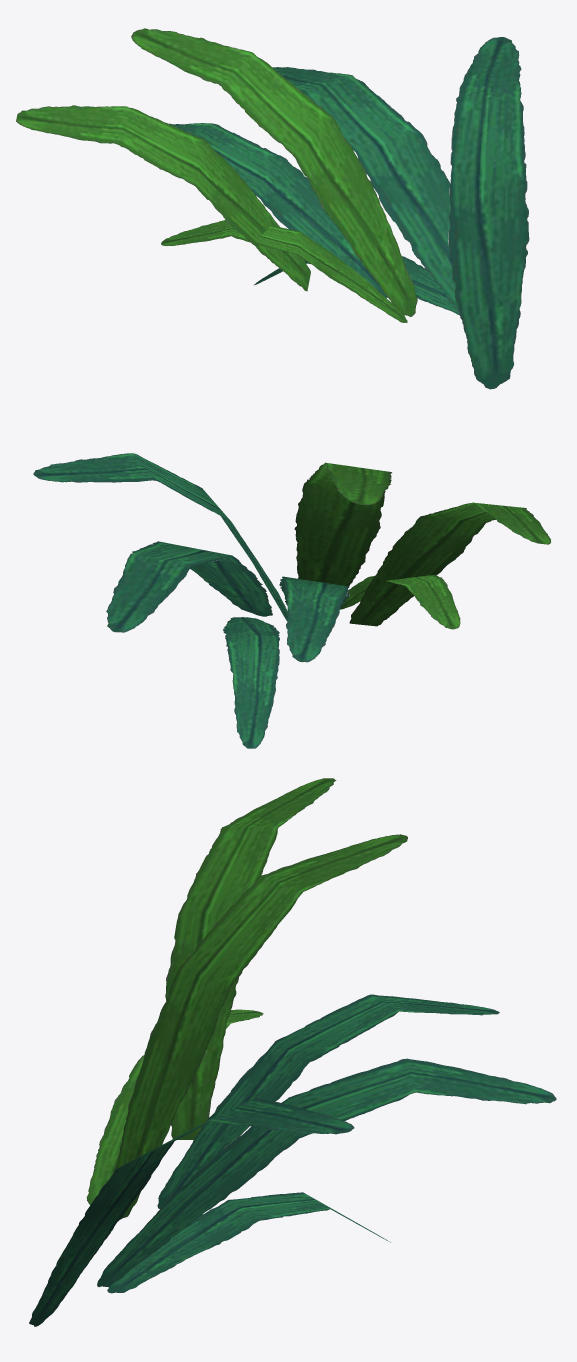
Rendered from leaf2.fbx.
3 views of the same model, one above another, from view 1: azimuth 30°, elevation 25°; view 2: azimuth 150°, elevation 25°; view 3: azimuth 270°, elevation 25° (orthographic). The views are drawn at different scales.
Visible parts, largest first — view 1: leaf24; view 2: leaf24; view 3: leaf24.
Boxes of the visible parts, x1,y1,x2,y2 form: leaf24: (16,28,529,389); leaf24: (33,453,550,748); leaf24: (29,778,556,1326).
Bounding box in the file's own units: 682 × 384 × 490.
